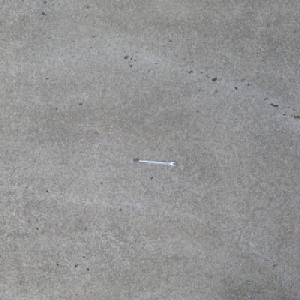Wrench: (130, 158, 177, 166)
